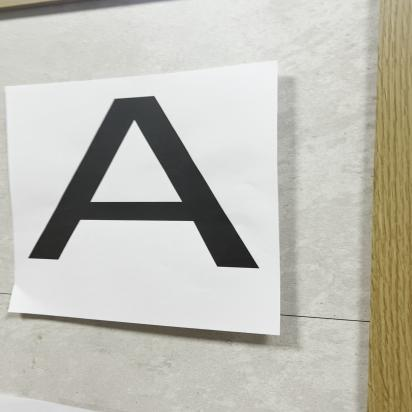seat: (7, 87, 261, 283)
